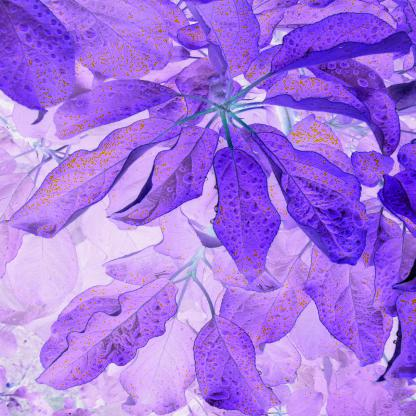apple leaf: (14, 110, 188, 247), (35, 268, 188, 401), (235, 124, 374, 270), (295, 229, 415, 376), (259, 5, 415, 96), (179, 0, 271, 116), (1, 1, 92, 115), (204, 145, 277, 287), (193, 312, 283, 416), (37, 78, 187, 138)
